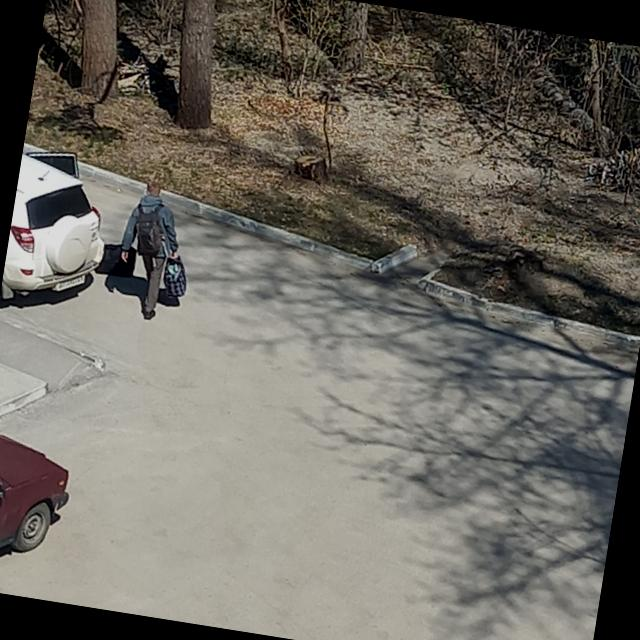person: (110, 178, 190, 322)
